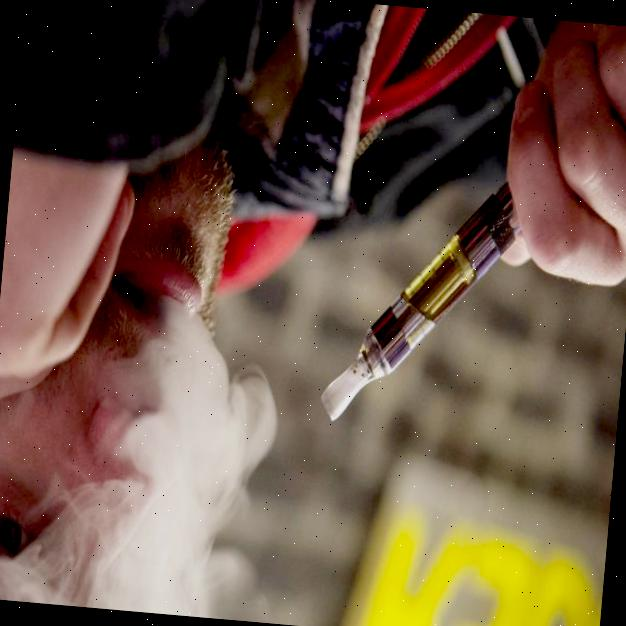smoke: (115, 301, 281, 616)
